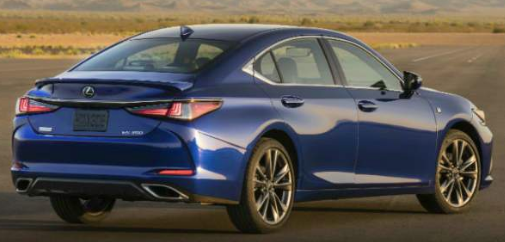car: (11, 25, 495, 234)
